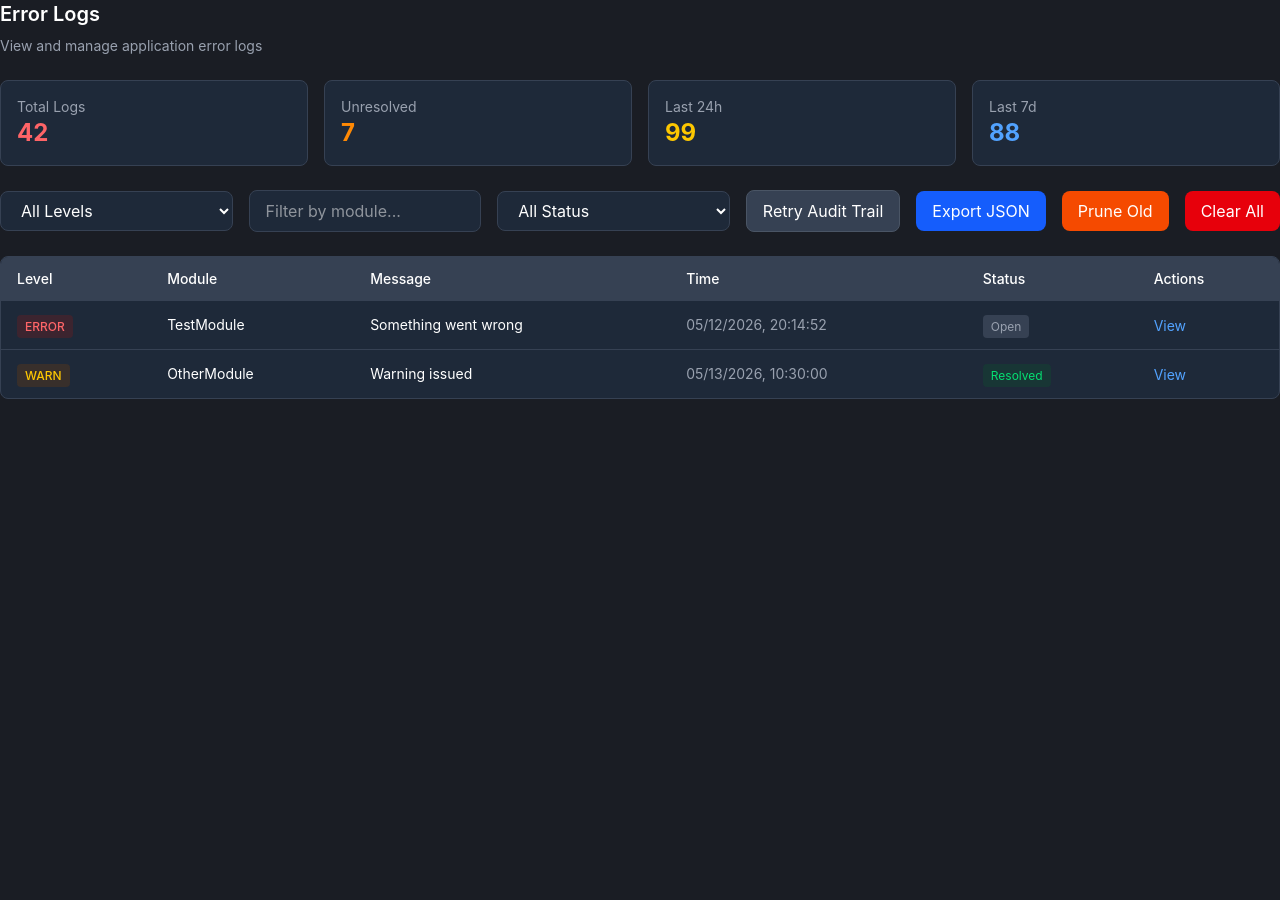
Test: closeModal › closes modal and resets state when close button is clicked
The width and height of the screenshot is (1280, 900).
Click the button "View" in the row of "TestModule".
click(1170, 326)  # box [1154,316,1186,336]
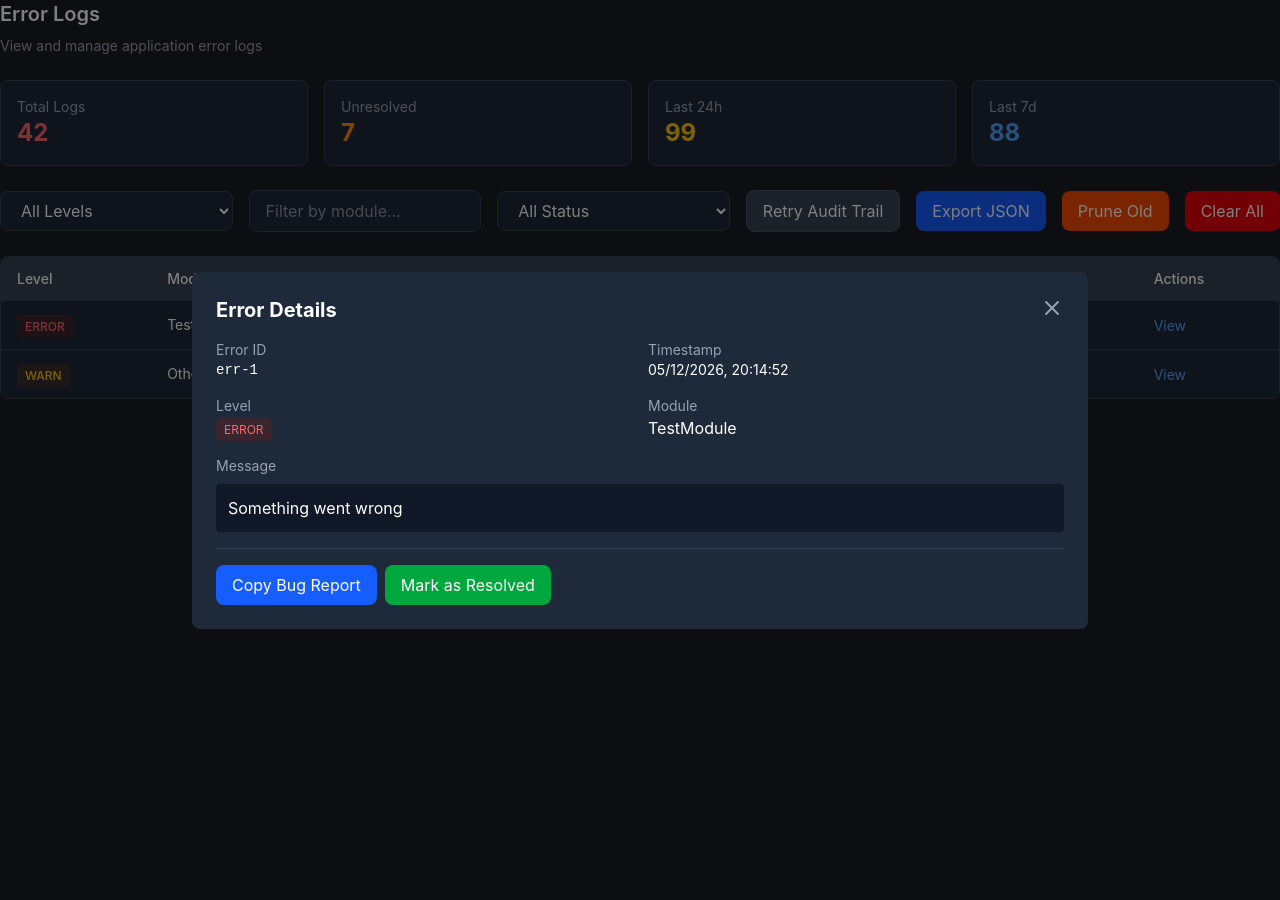
Result: the text "Error Details" is shown at [216,296,337,324]
Click the 1st button.
click(1052, 308)  # box [1040,296,1064,320]
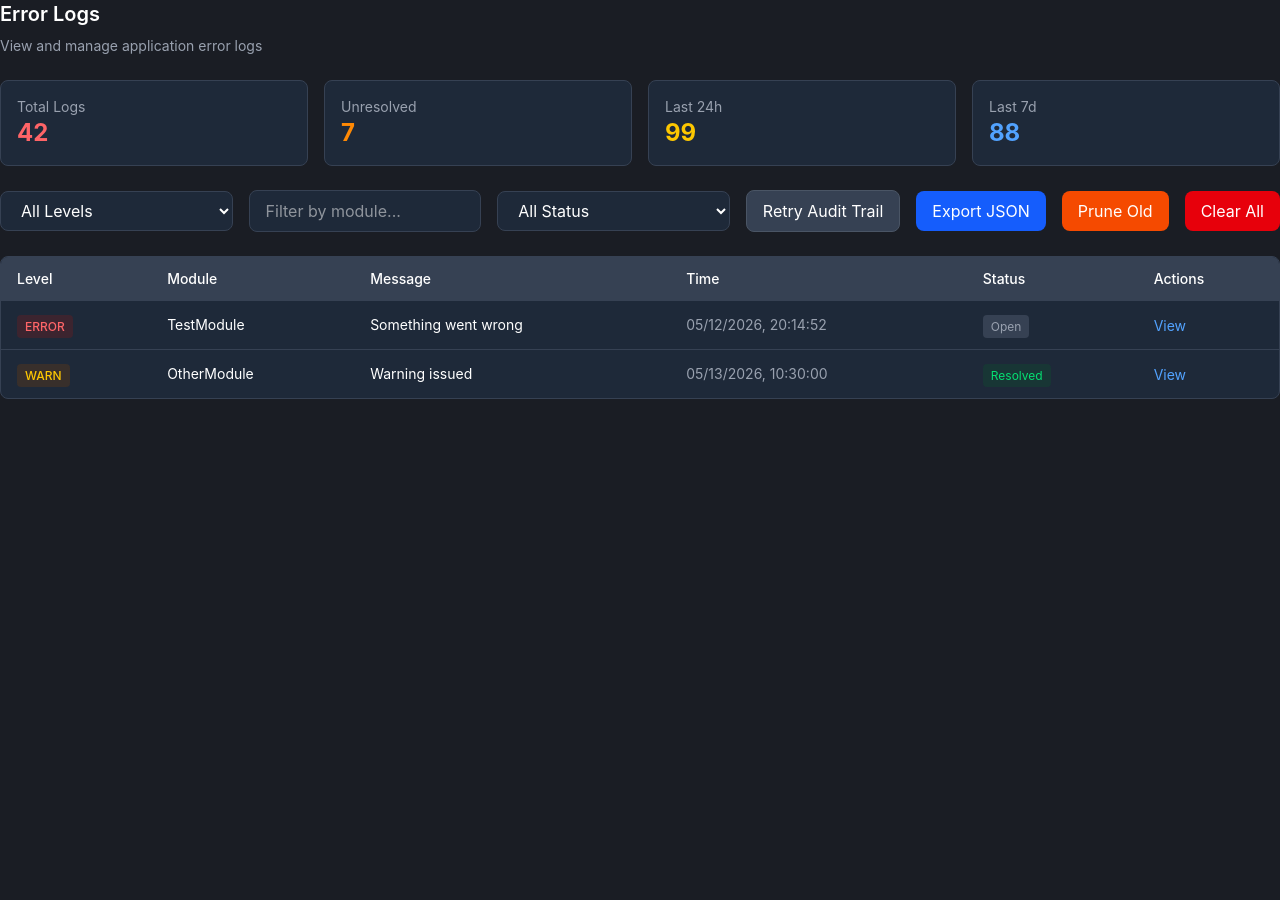
Result: the text "Error Details" is gone
